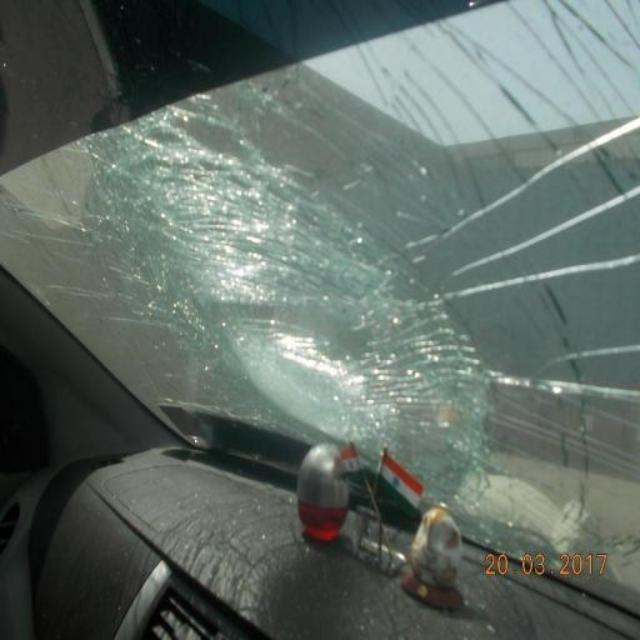glass shatter: (98, 118, 640, 525)
